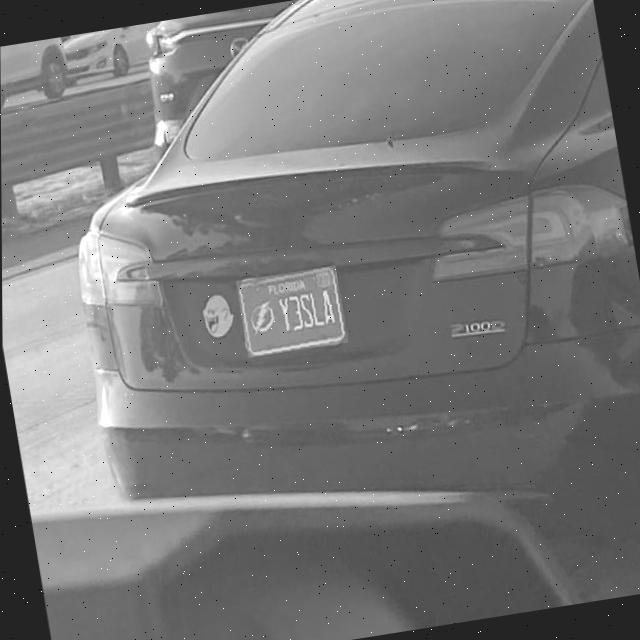LicensePlate: (236, 265, 348, 358)
